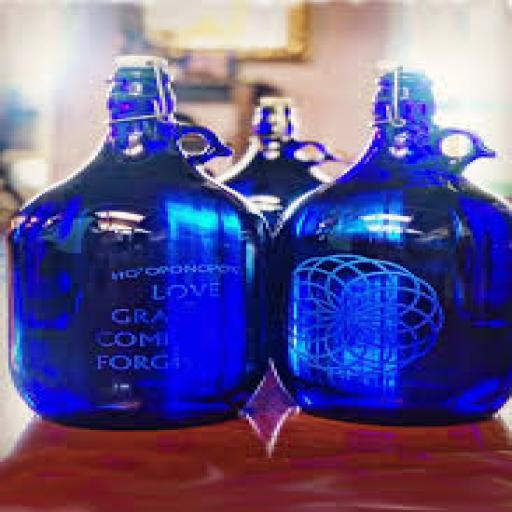blue-bottle: (8, 58, 266, 426), (271, 67, 509, 424)
